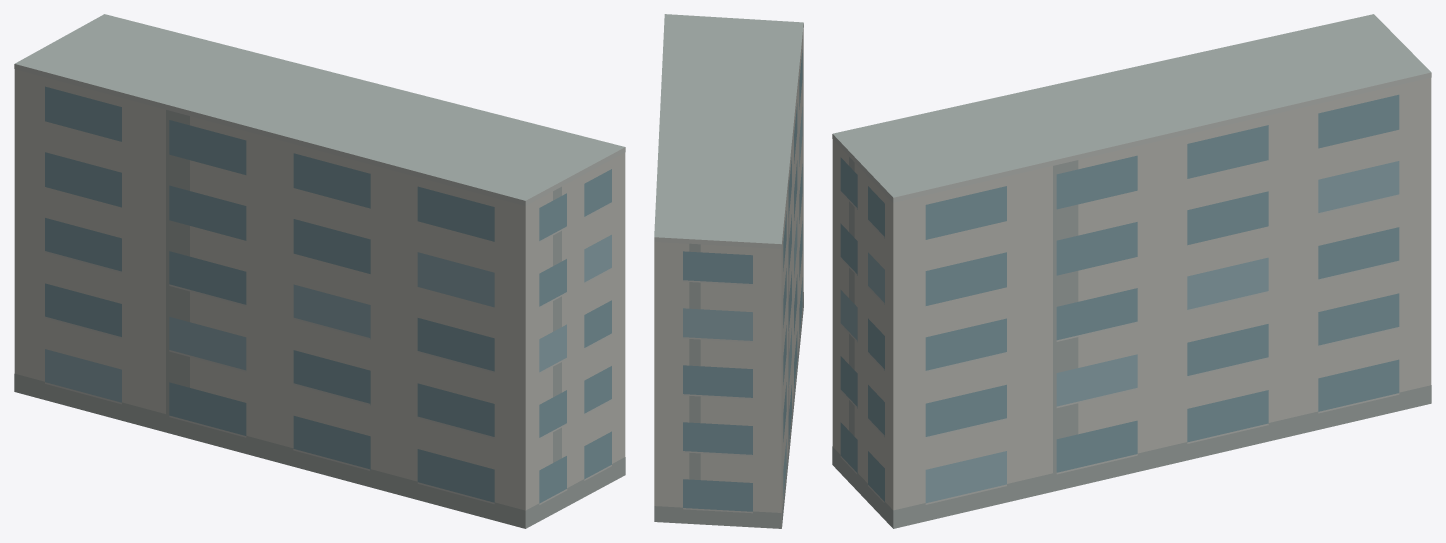
Rendered from survey-upis-33017788.glb.
The picture shows the model from 3 angles, left to right: view 1: azimuth 30°, elevation 25°; view 2: azimuth 150°, elevation 25°; view 3: azimuth 270°, elevation 25°; orthographic projection. The views are drawn at different scales.
Visible parts, largest first — view 1: survey-upis-33017788.tmp; view 2: survey-upis-33017788.tmp; view 3: survey-upis-33017788.tmp.
Part boxes in pixels (bbox=[...]): survey-upis-33017788.tmp: bbox=[14, 14, 625, 528]; survey-upis-33017788.tmp: bbox=[654, 14, 803, 528]; survey-upis-33017788.tmp: bbox=[832, 14, 1431, 528].
Bounding box in the file's own units: 18.09 × 15.2 × 24.93.
